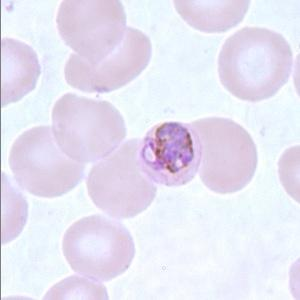Infected: (137, 122, 201, 186)
Uninfected: (63, 27, 150, 91), (218, 27, 293, 100), (8, 125, 85, 194), (50, 93, 125, 163), (61, 214, 135, 284), (189, 117, 256, 193), (55, 0, 126, 65), (85, 155, 155, 219)
